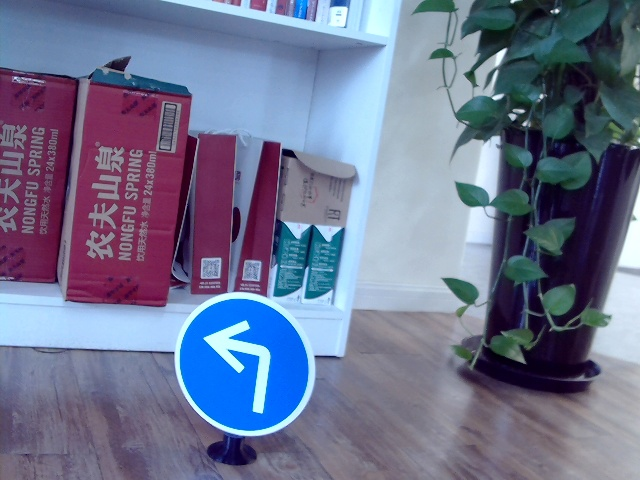turn_left: (200, 315, 277, 414)
